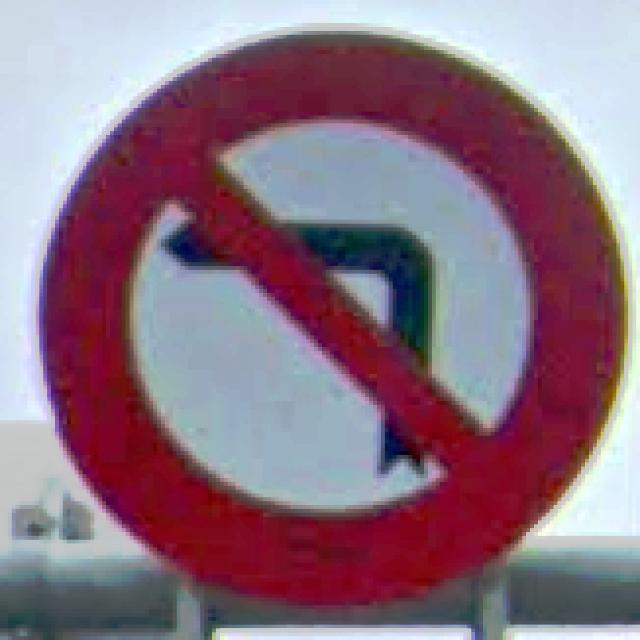noturnleft: (28, 19, 632, 613)
